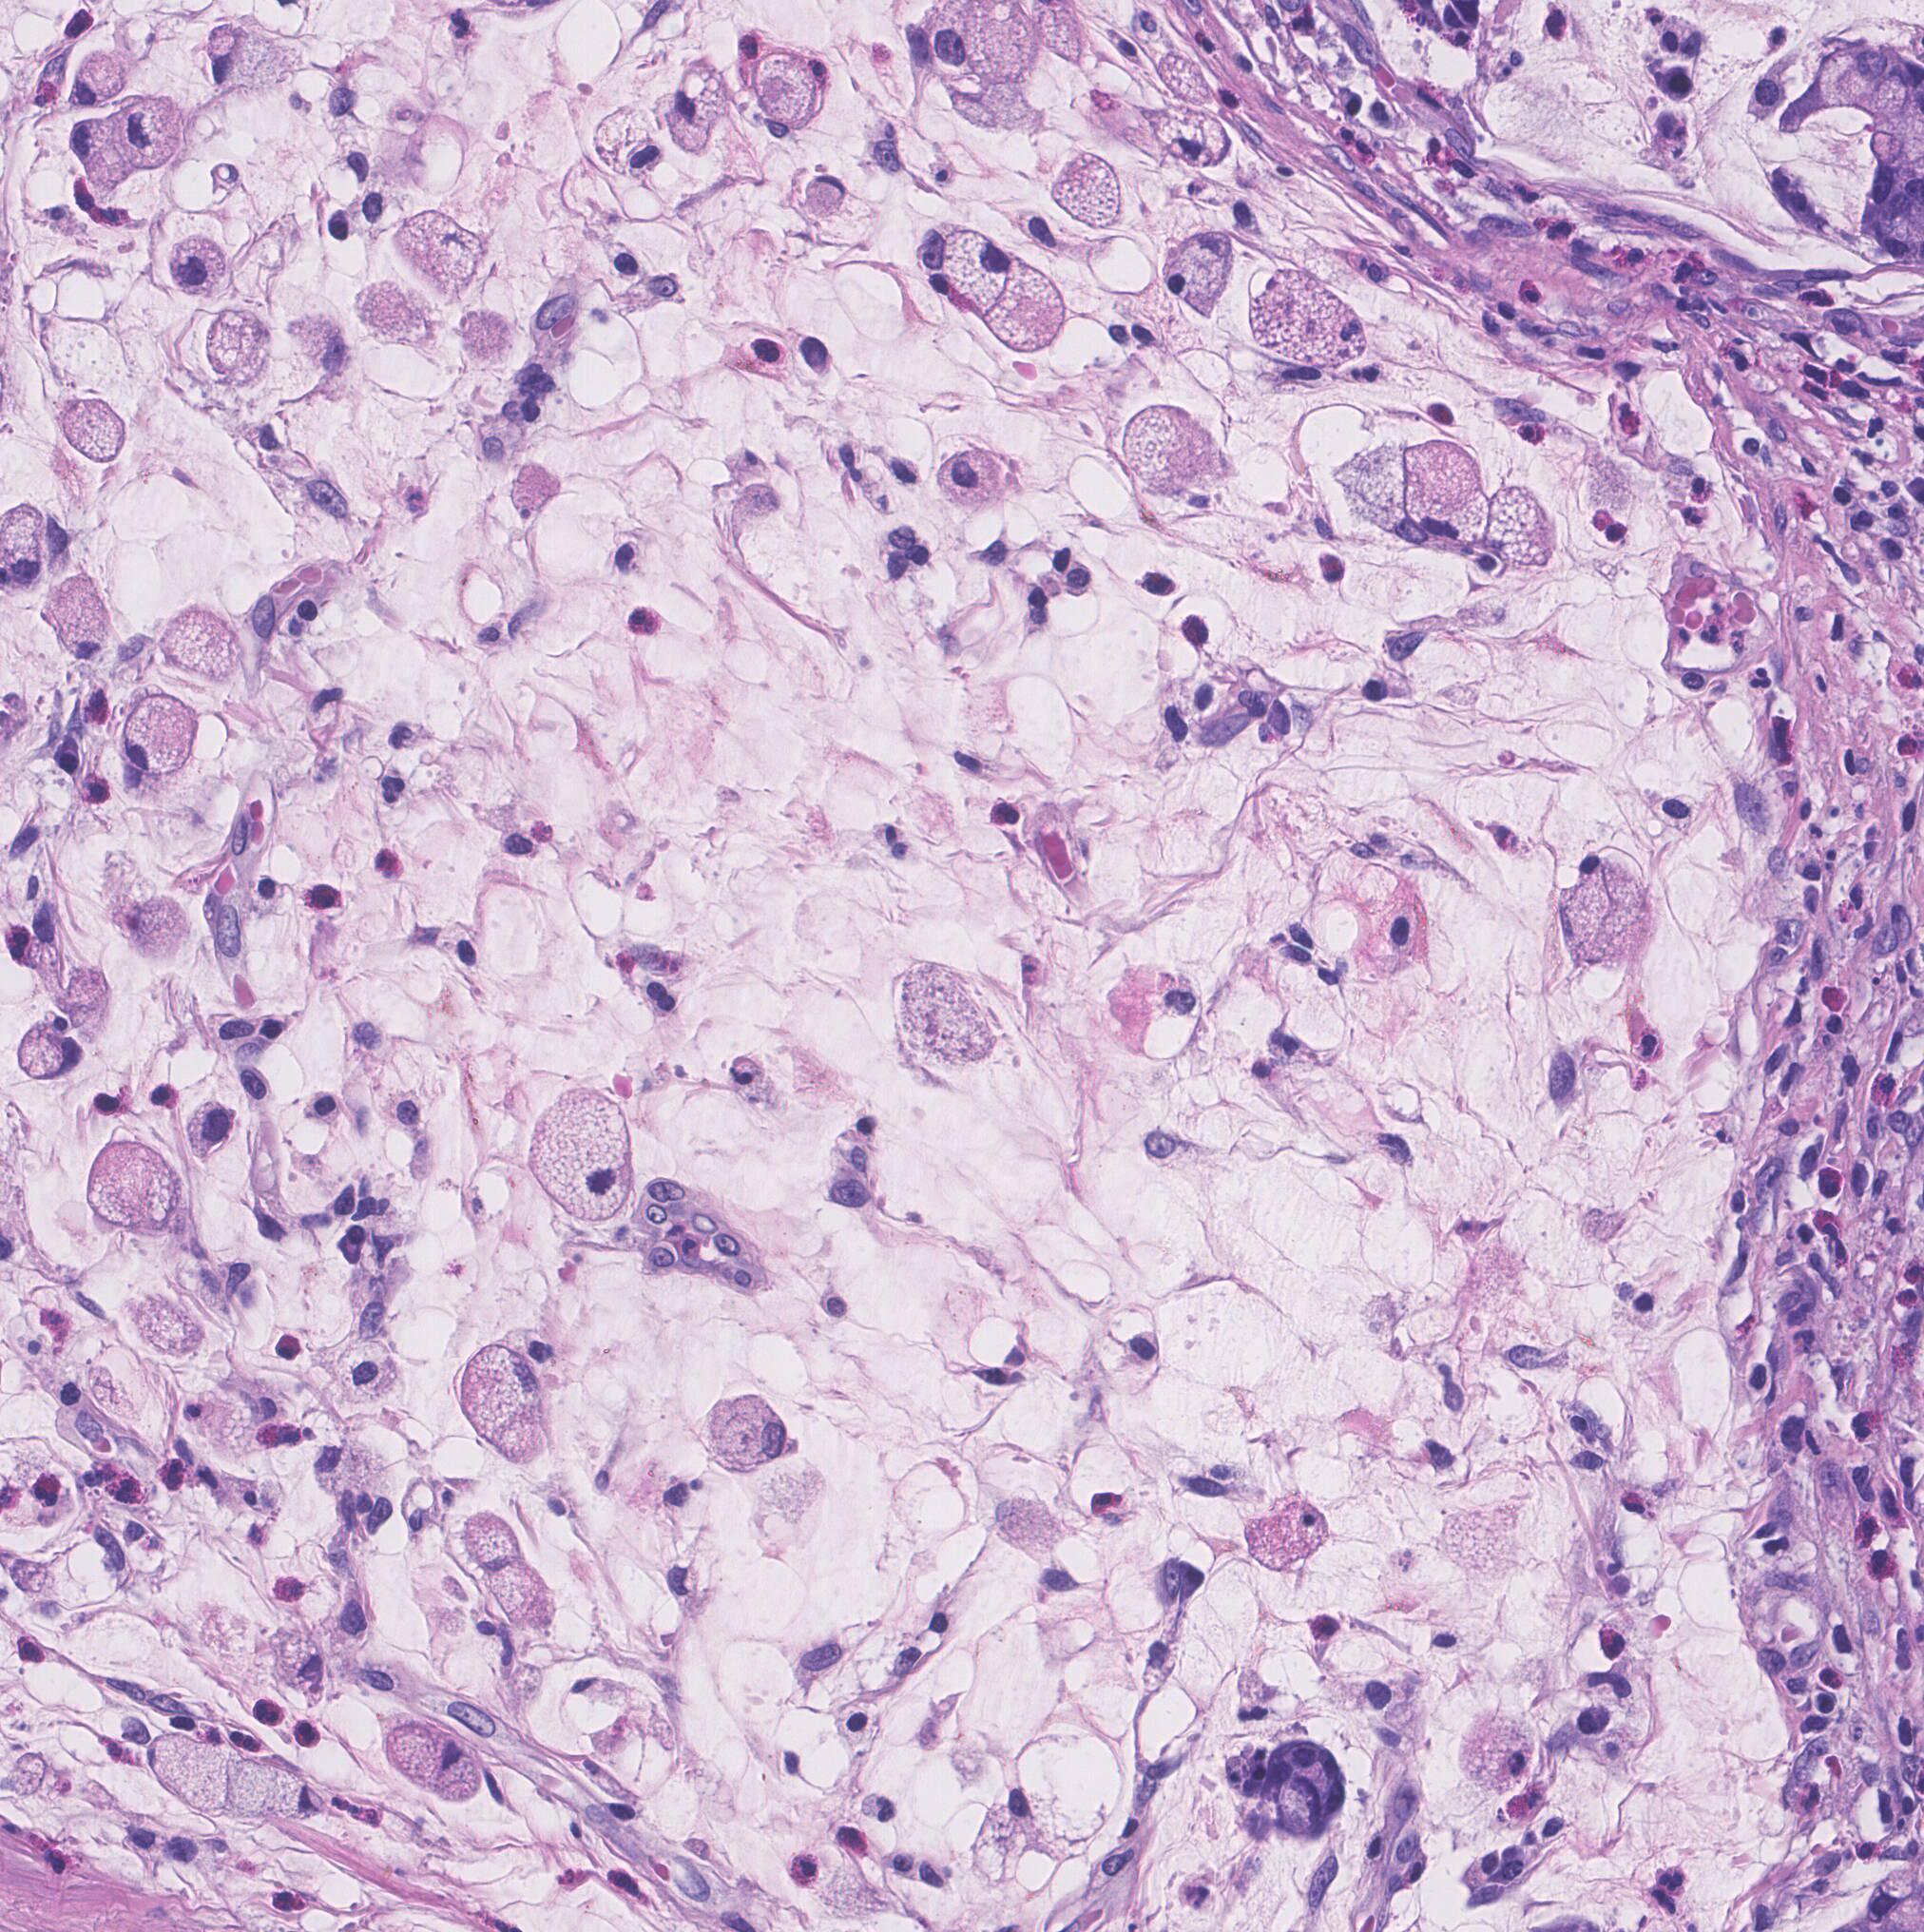ring_cell_cancer: (530, 1088, 647, 1222), (1246, 263, 1376, 377), (455, 1341, 557, 1474), (1121, 398, 1232, 509), (1559, 851, 1660, 973), (78, 1141, 194, 1243), (1401, 427, 1491, 552), (391, 203, 507, 289), (238, 1740, 331, 1839), (1332, 442, 1425, 541), (136, 1729, 233, 1817), (1489, 474, 1570, 578), (389, 1719, 481, 1807), (115, 696, 210, 777), (934, 222, 1013, 319), (41, 573, 122, 663), (164, 598, 245, 686), (751, 53, 828, 143), (1168, 224, 1240, 319), (707, 1393, 789, 1475), (63, 113, 143, 199), (359, 277, 446, 354), (999, 261, 1073, 351), (1244, 1498, 1330, 1572), (109, 93, 189, 173), (488, 1560, 564, 1639), (1055, 150, 1128, 231), (122, 887, 196, 964), (1462, 1710, 1535, 1789), (937, 442, 1017, 515), (594, 106, 664, 178), (206, 308, 273, 384), (453, 1507, 530, 1572), (14, 1021, 88, 1086), (171, 233, 233, 303), (67, 44, 136, 106), (659, 95, 714, 160), (800, 175, 851, 222)
